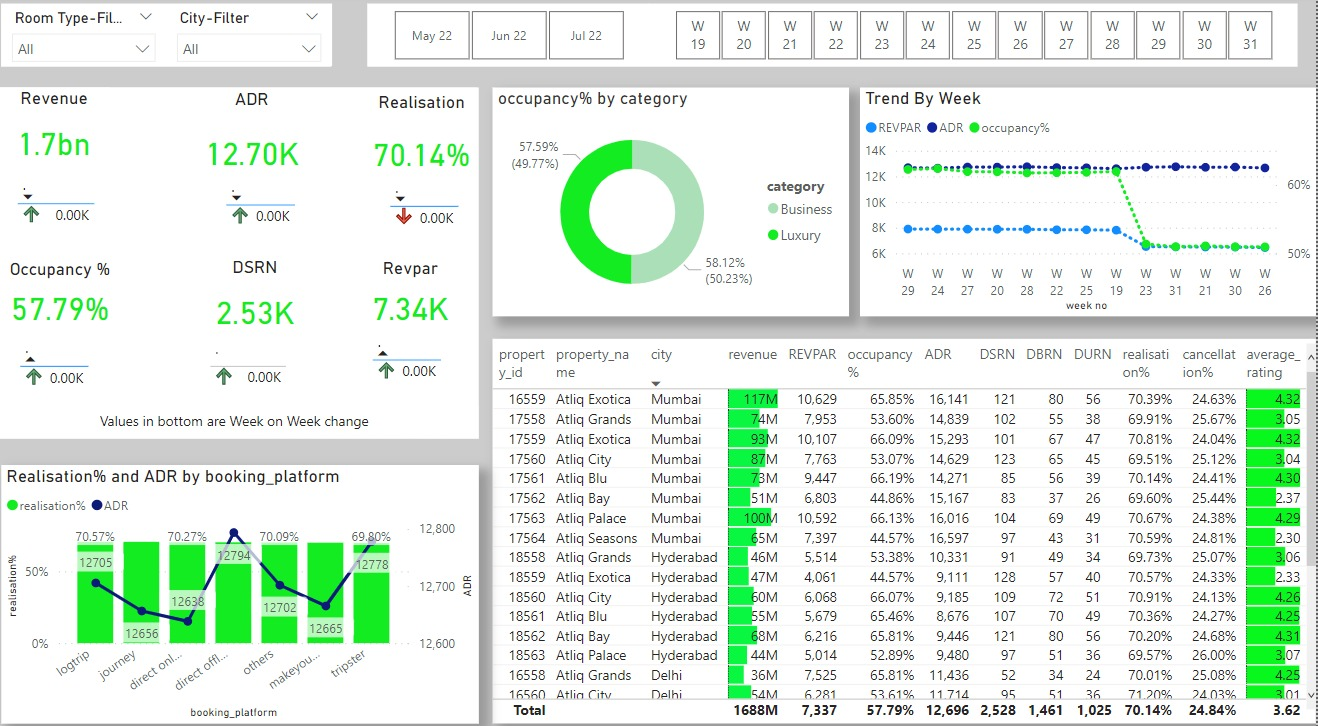

Layout of this report page (visuals, bound fields, positions):
{"tool":"powerbi","page":{"name":"Page 1","canvas":[1280,720],"ordinal":0},"visuals":[{"type":"tableEx","fields":{"Values":["dim_hotels.property_id","dim_hotels.property_name","dim_hotels.city","key_measures.revenue","key_measures.REVPAR","key_measures.occupancy%","key_measures.ADR","key_measures.DSRN","key_measures.DBRN","key_measures.DURN","key_measures.realisation%","key_measures.cancellation%"]},"box":[484.8,331.7,794.8,371.5],"z":0},{"type":"slicer","fields":{"Values":["dim_hotels.city"]},"box":[169.5,8.4,159.8,60.3],"z":1000,"group":"g1"},{"type":"slicer","fields":{"Values":["dim_date.week no"]},"box":[635.6,8.4,625.9,60.3],"z":2000,"group":"g2"},{"type":"slicer","fields":{"Values":["dim_rooms.room_class"]},"box":[10.9,8.4,158.6,60.3],"z":4000,"group":"g1"},{"type":"card","title":"Revenue","fields":{"Values":["key_measures.revenue"]},"box":[9.6,89.2,107,86.6],"z":5000,"group":"g3"},{"type":"tableEx","fields":{"Values":["key_measures.Revenue WoW change %"]},"box":[19.4,180.7,133,71],"z":6000,"group":"g3"},{"type":"donutChart","fields":{"Category":["dim_hotels.category"],"Y":["key_measures.occupancy%"]},"box":[484.8,89.2,343.7,220.7],"z":7000},{"type":"card","title":"Occupancy %","fields":{"Values":["key_measures.occupancy%"]},"box":[13.8,257,114.9,75],"z":8000,"group":"g3"},{"type":"tableEx","fields":{"Values":["key_measures.Revpar WoW change %"]},"box":[363.8,318.9,92.1,67.1],"z":9000,"group":"g3"},{"type":"card","title":"Revpar","fields":{"Values":["key_measures.REVPAR"]},"box":[342.2,253.1,128.5,76.3],"z":10000,"group":"g3"},{"type":"tableEx","fields":{"Values":["key_measures.Occupancy WoW change %"]},"box":[23.8,324.2,94.4,65.8],"z":11000,"group":"g3"},{"type":"card","title":"ADR","fields":{"Values":["key_measures.ADR"]},"box":[200.9,90.7,104.7,101.7],"z":12000,"group":"g3"},{"type":"tableEx","fields":{"Values":["key_measures.ADR WoW change %"]},"box":[222.8,169,87.4,67.8],"z":13000,"group":"g3"},{"type":"card","title":"DSRN","fields":{"Values":["key_measures.DSRN"]},"box":[205.7,251.8,101.2,85.5],"z":14000,"group":"g3"},{"type":"card","title":"Realisation","fields":{"Values":["key_measures.realisation%"]},"box":[364.3,93.1,107,99.1],"z":17000,"group":"g3"},{"type":"tableEx","fields":{"Values":["key_measures.Realisation WoW change %"]},"box":[380.8,170,84,79.1],"z":17001,"group":"g3"},{"type":"tableEx","fields":{"Values":["key_measures.DSRN WoW change %"]},"box":[41,495.7,118.2,67.5],"z":17002},{"type":"lineStackedColumnComboChart","title":"Realisation% and ADR by booking_platform","fields":{"Category":["fact_bookings.booking_platform"],"Y":["key_measures.realisation%"],"Y2":["key_measures.ADR"]},"box":[10.9,453.5,460.7,249.6],"z":17003},{"type":"lineChart","title":"Trend By Week","fields":{"Category":["dim_date.week no"],"Y":["key_measures.REVPAR","key_measures.ADR"],"Y2":["key_measures.occupancy%"]},"box":[839.4,89.2,440.2,220.7],"z":17004},{"type":"slicer","fields":{"Values":["dim_date.mmm yy"]},"box":[364.2,8.4,271.4,60.3],"z":17005,"group":"g2"},{"type":"group","id":"g1","title":"Group 2","box":[10.9,8.4,318.4,60.3],"z":17007},{"type":"group","id":"g2","title":"Group 1","box":[364.2,8.4,897.3,60.3],"z":17008},{"type":"tableEx","fields":{"Values":["key_measures.DSRN WoW change %"]},"box":[206.8,326.8,97.8,63.1],"z":17009,"group":"g3"},{"type":"group","id":"g3","title":"Group 3","box":[9.6,89.2,461.7,300],"z":17010,"group":"g4"},{"type":"textbox","box":[9.6,396.7,461.9,31.4],"z":17011,"group":"g4"},{"type":"group","id":"g4","title":"Group 4","box":[9.6,89.2,461.9,338.9],"z":17012}]}

Visuals, with their boxes in screenshot pixels (x1, y1, x2, y2), scaled from the page's 1280x720 canvas onto the 1318x726 screenshot:
tableEx - dim_hotels.property_id x dim_hotels.property_name: (499,334,1317,709)
slicer - dim_hotels.city: (175,8,339,69)
slicer - dim_date.week no: (654,8,1299,69)
slicer - dim_rooms.room_class: (11,8,175,69)
"Revenue" card: (10,90,120,177)
tableEx - key_measures.Revenue WoW change %: (20,182,157,254)
donutChart - dim_hotels.category x key_measures.occupancy%: (499,90,853,312)
"Occupancy %" card: (14,259,133,335)
tableEx - key_measures.Revpar WoW change %: (375,322,469,389)
"Revpar" card: (352,255,485,332)
tableEx - key_measures.Occupancy WoW change %: (25,327,122,393)
"ADR" card: (207,91,315,194)
tableEx - key_measures.ADR WoW change %: (229,170,319,239)
"DSRN" card: (212,254,316,340)
"Realisation" card: (375,94,485,194)
tableEx - key_measures.Realisation WoW change %: (392,171,479,251)
tableEx - key_measures.DSRN WoW change %: (42,500,164,568)
"Realisation% and ADR by booking_platform" lineStackedColumnComboChart: (11,457,486,709)
"Trend By Week" lineChart: (864,90,1317,312)
slicer - dim_date.mmm yy: (375,8,654,69)
"Group 2" group: (11,8,339,69)
"Group 1" group: (375,8,1299,69)
tableEx - key_measures.DSRN WoW change %: (213,330,314,393)
"Group 3" group: (10,90,485,392)
textbox: (10,400,485,432)
"Group 4" group: (10,90,485,432)
